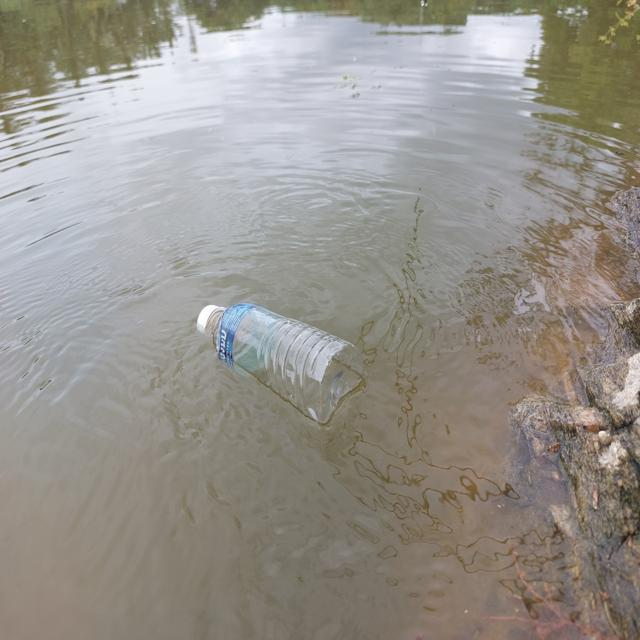waterbottle: (188, 298, 373, 436)
